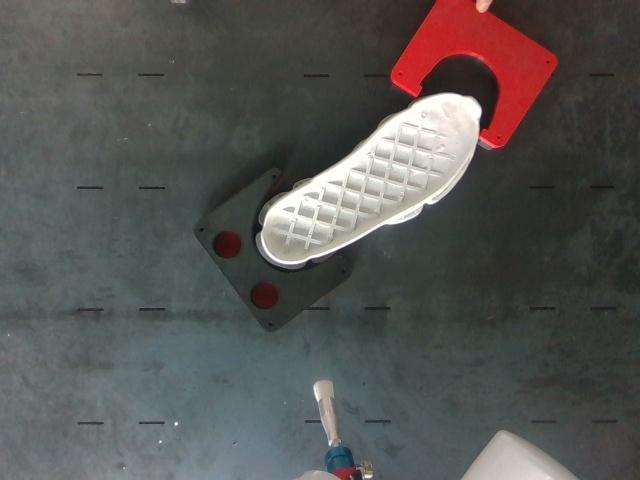shoes: (263, 95, 479, 262)
